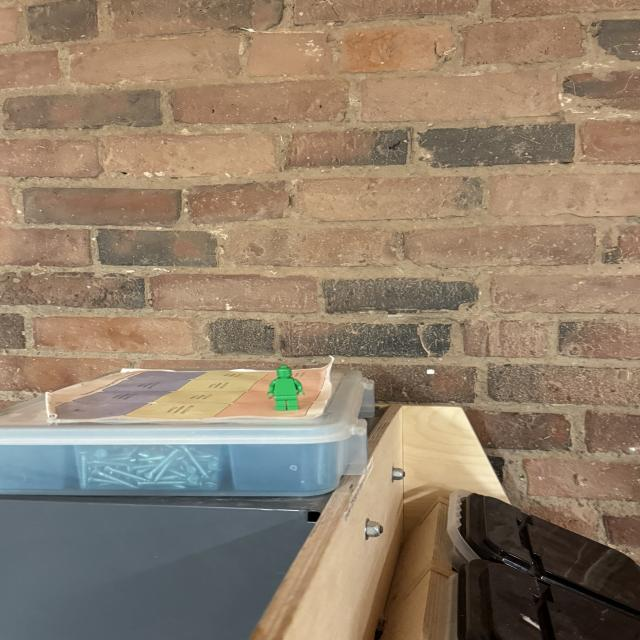Green Mini Figure: (267, 365, 305, 411)
